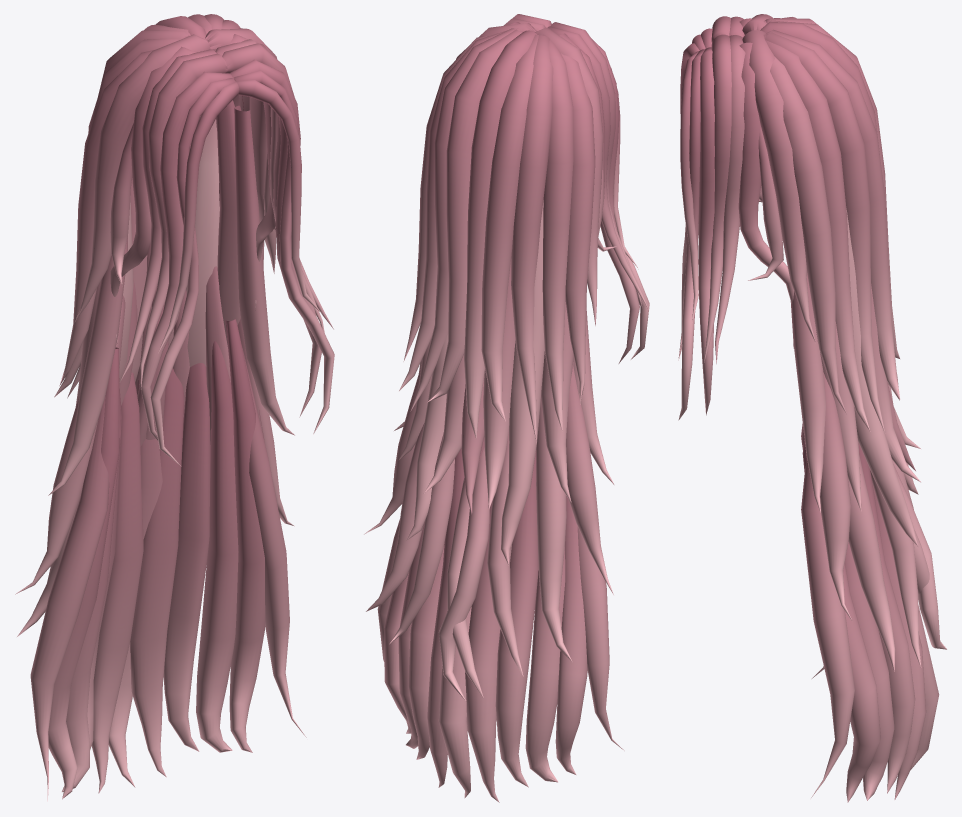
Rendered from Long Layered Hair #1.obj.
3 views of the same model, side by side, from view 1: azimuth 30°, elevation 25°; view 2: azimuth 150°, elevation 25°; view 3: azimuth 270°, elevation 25° (orthographic). The views are drawn at different scales.
Visible parts, largest first — view 1: MMD_Long_Layered_Hair_#1_mesh.014_MMD_Long_Layered_Hair_#1.014; view 2: MMD_Long_Layered_Hair_#1_mesh.014_MMD_Long_Layered_Hair_#1.014; view 3: MMD_Long_Layered_Hair_#1_mesh.014_MMD_Long_Layered_Hair_#1.014.
Part boxes in pixels (x1,y1,x2,y2): MMD_Long_Layered_Hair_#1_mesh.014_MMD_Long_Layered_Hair_#1.014: [15, 14, 334, 801]; MMD_Long_Layered_Hair_#1_mesh.014_MMD_Long_Layered_Hair_#1.014: [364, 14, 649, 802]; MMD_Long_Layered_Hair_#1_mesh.014_MMD_Long_Layered_Hair_#1.014: [678, 14, 946, 802].
Size of the model in its own units: 4.09 by 11.29 by 3.6.
